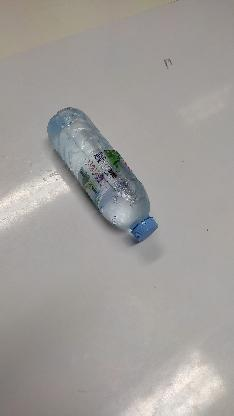Plastic Bottle: (46, 106, 158, 244)
